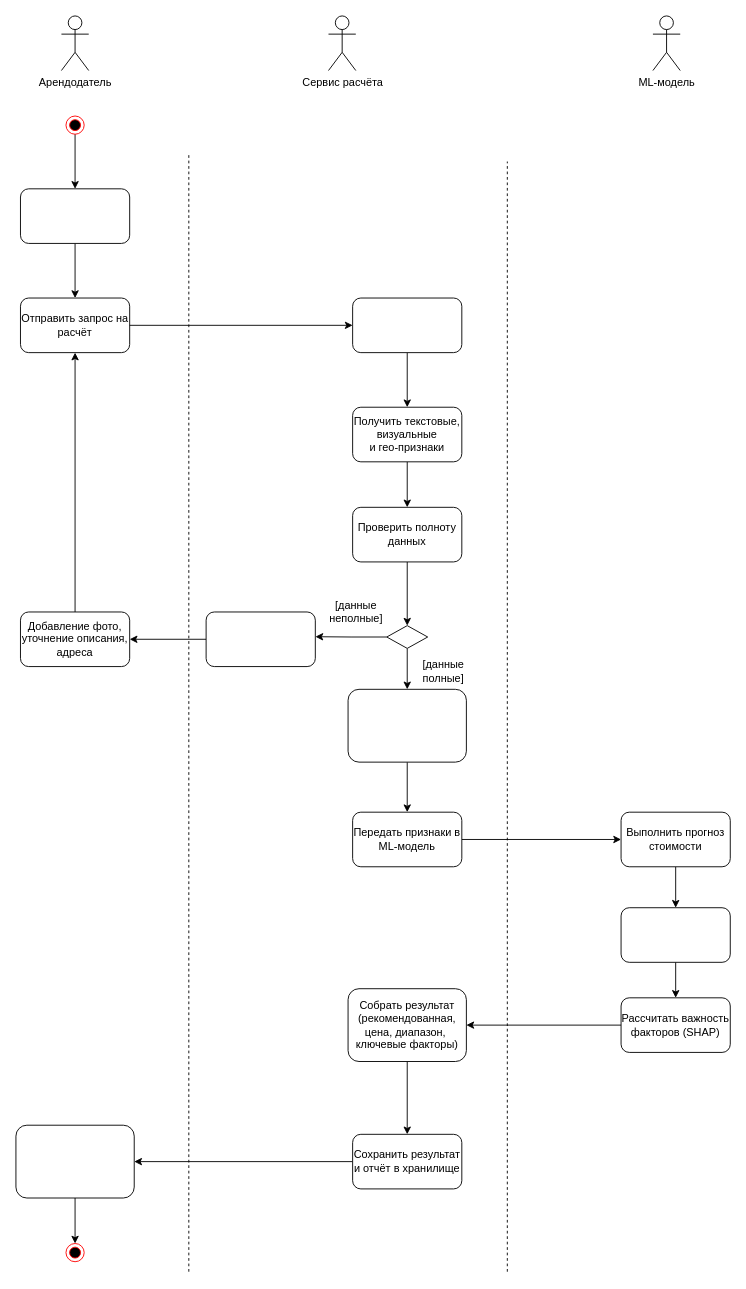
Image size: 746x1289. Some labels were removed from this diagram. Each missing label, with the centre of its shape:
Инициировать сбор признаков из всех модулей: [407,325]
Нажать "Рассчитать стоимость": [75,215]
Нормализовать признаки (масштабирование, one-hot, заполнение пропусков): [406,725]
Определить диапазон цены (минимум–максимум): [675,934]
Просмотреть рекомендованную цену: [74,1161]
Сформировать запрос уточнения/дозагрузки: [260,639]
